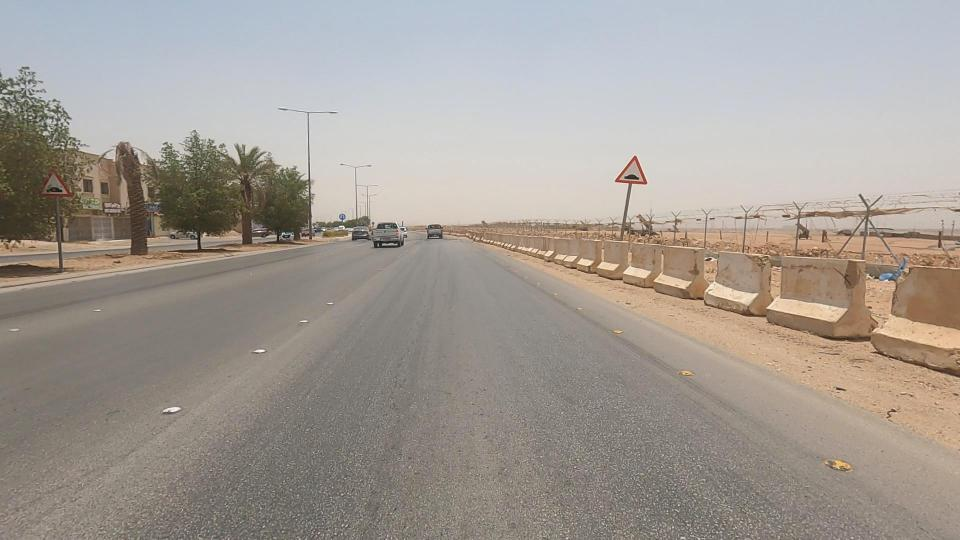GARBAGE: (843, 238, 941, 307)
